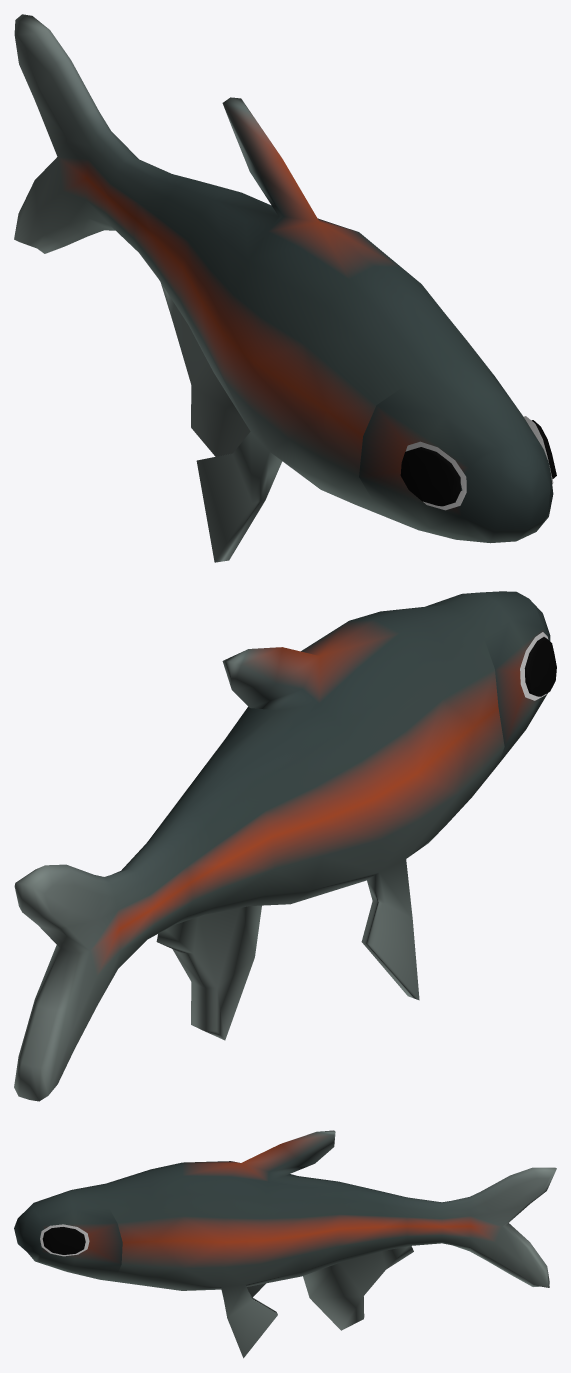
File: underwater-fish-tetra_v3.glb
3 renders of one model, top to bottom at view 1: azimuth 30°, elevation 25°; view 2: azimuth 150°, elevation 25°; view 3: azimuth 270°, elevation 25°, orthographic. The views are drawn at different scales.
Parts seen in each view (by area): view 1: Tetra_v3; view 2: Tetra_v3; view 3: Tetra_v3.
Part boxes in pixels (x1,y1,x2,y2): Tetra_v3: [14, 14, 556, 562]; Tetra_v3: [14, 591, 556, 1101]; Tetra_v3: [14, 1130, 556, 1358].
Bounding box in the file's own units: 0.00926 × 0.0163 × 0.04.
